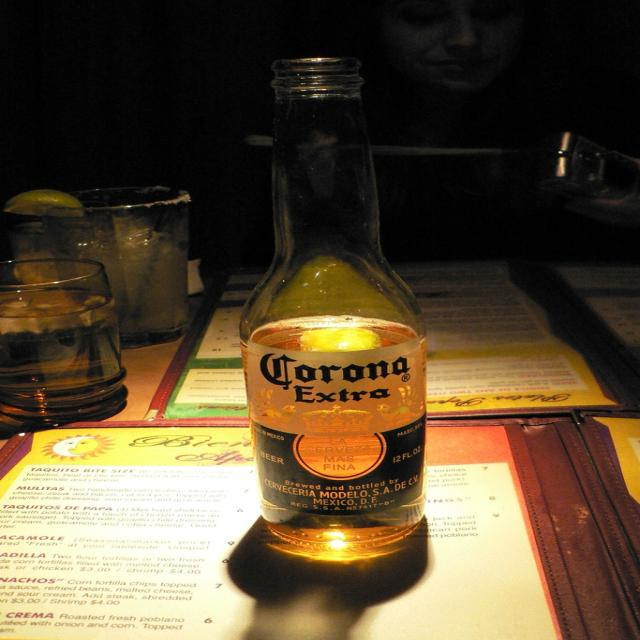corona: (249, 339, 428, 517)
